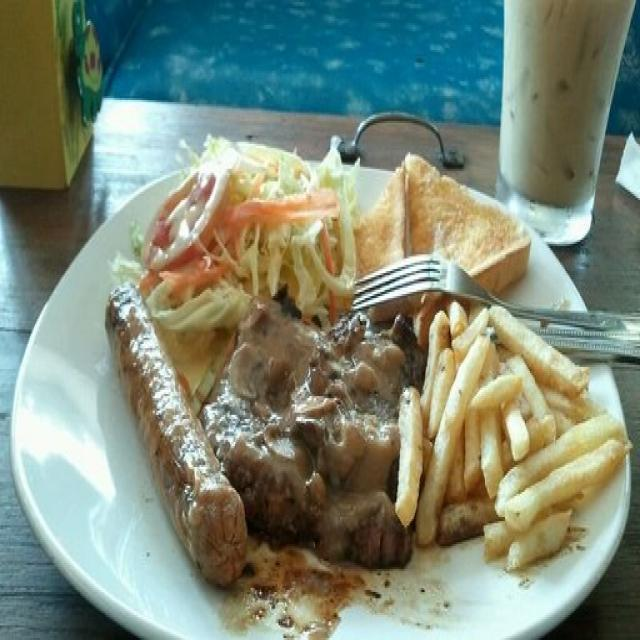French fries: (410, 300, 620, 582)
Steak: (215, 296, 404, 571), (100, 277, 242, 571)
